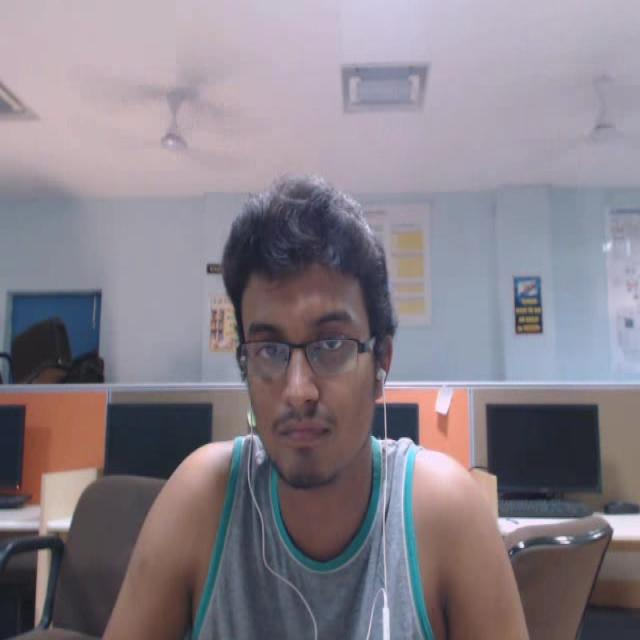Engaged: (206, 157, 432, 521)
